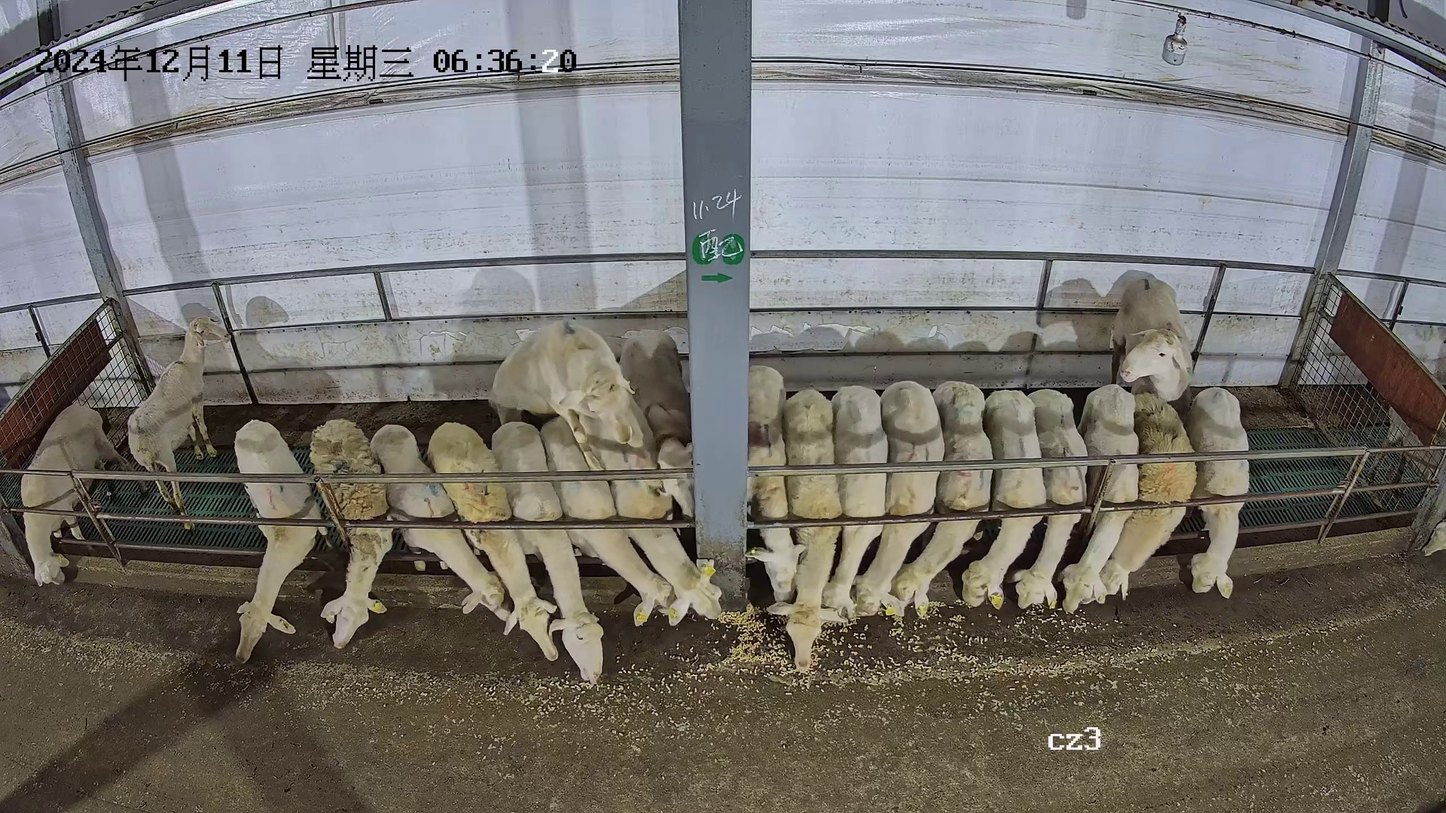Nmounting: (488, 314, 644, 623)
